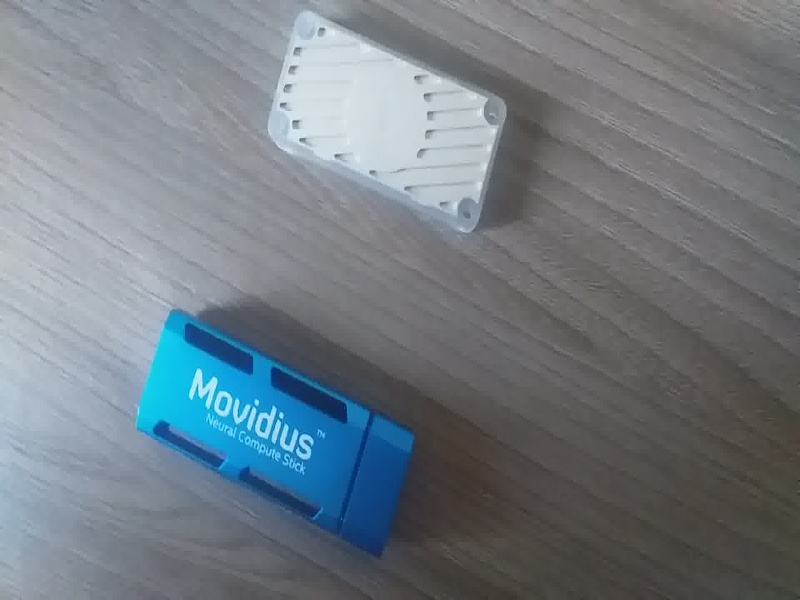coral: (261, 6, 517, 240)
movidius: (115, 299, 442, 564)
